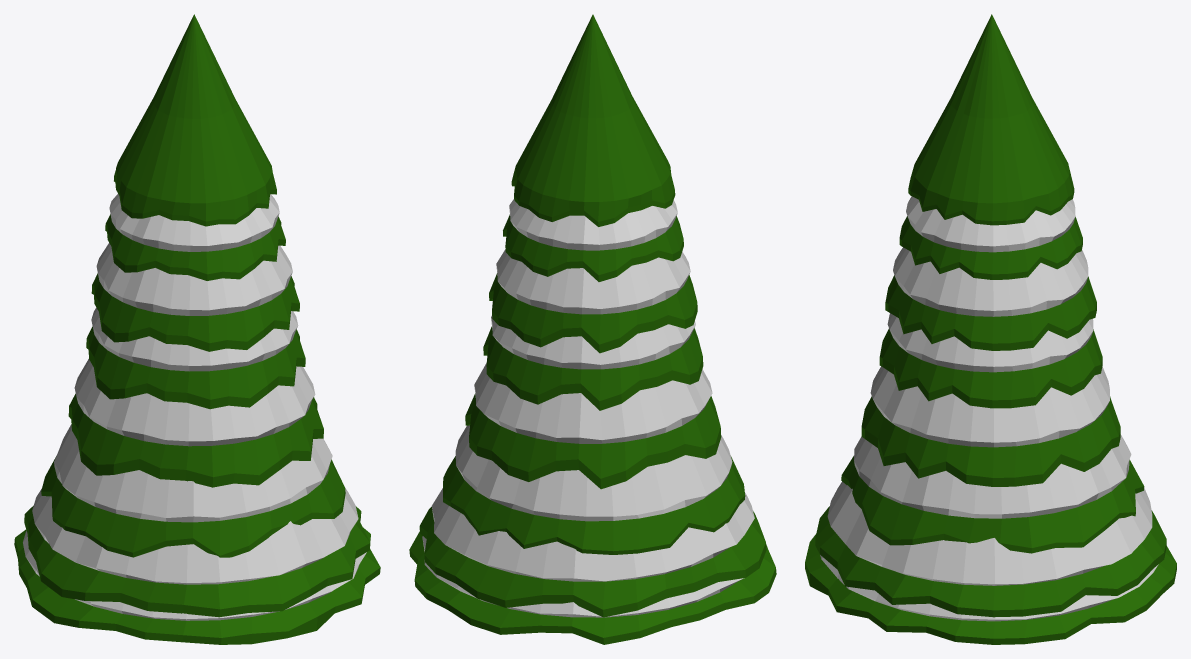
Rendered from snowyTree1.fbx.
The picture shows the model from 3 angles, left to right: view 1: azimuth 30°, elevation 25°; view 2: azimuth 150°, elevation 25°; view 3: azimuth 270°, elevation 25°; orthographic projection.
Parts seen in each view (by area): view 1: SnowyTree1; view 2: SnowyTree1; view 3: SnowyTree1.
Boxes of the visible parts, left/top/right/bottom form: SnowyTree1: left=14, top=14, right=380, bottom=644; SnowyTree1: left=409, top=14, right=776, bottom=644; SnowyTree1: left=805, top=14, right=1176, bottom=644.
Size of the model in its own units: 4.97 by 8.85 by 4.95.
